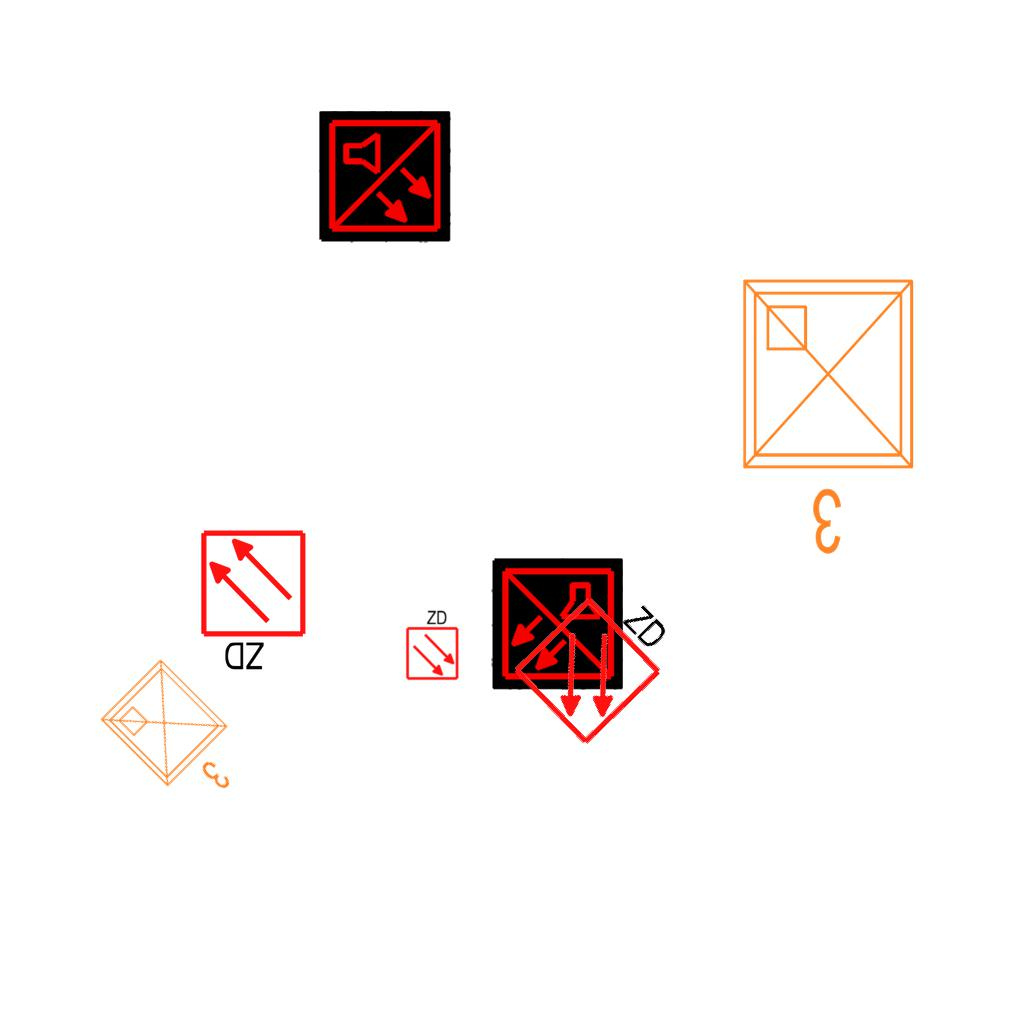Einbaudownlights_LED_Konferenzraeume: (728, 265, 936, 565), (90, 646, 270, 826)
OKW_Multisensormelder_(Kombination_optischer_Rauch-Kahlenmonoxid_Waerme-Melder): (319, 111, 451, 243), (491, 558, 623, 690)
ZD_Melder_in_Zwischendecke_mit_Revisionsoeffnung_mind_40_x_40_cm: (506, 563, 694, 750), (198, 528, 312, 677), (403, 607, 460, 681)
